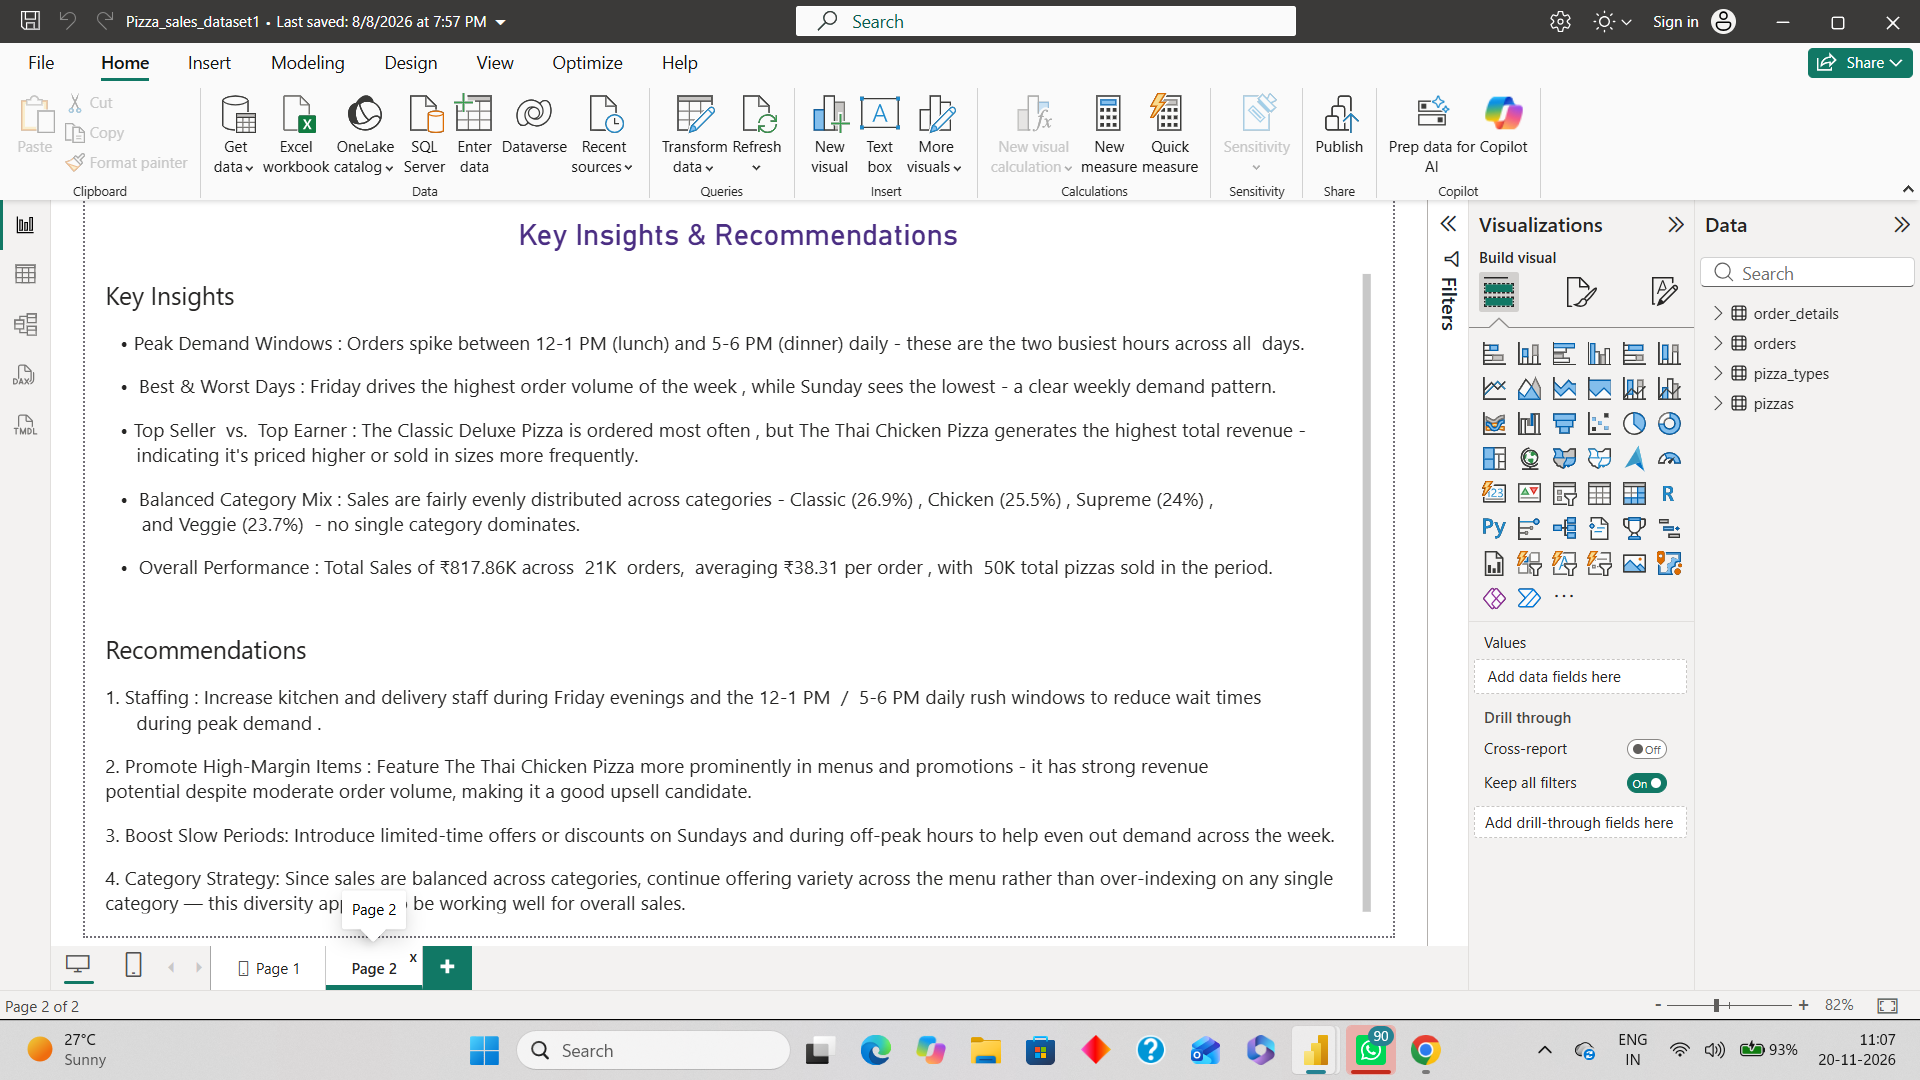

The page's visual inventory and layout, read from the dashboard file:
{"tool":"powerbi","page":{"name":"Page 2","canvas":[1280,720],"ordinal":1},"visuals":[{"type":"textbox","title":"Key Insights & Recommendations","box":[14.7,17.1,1248.5,686],"z":0}]}

Visuals, with their boxes on the page's 1280x720 design canvas (x1, y1, x2, y2). These are canvas units, not pixel positions in the 1920x1080 screenshot, which may show the page scaled, cropped or inside an application window:
"Key Insights & Recommendations" textbox: bbox=[15, 17, 1263, 703]
